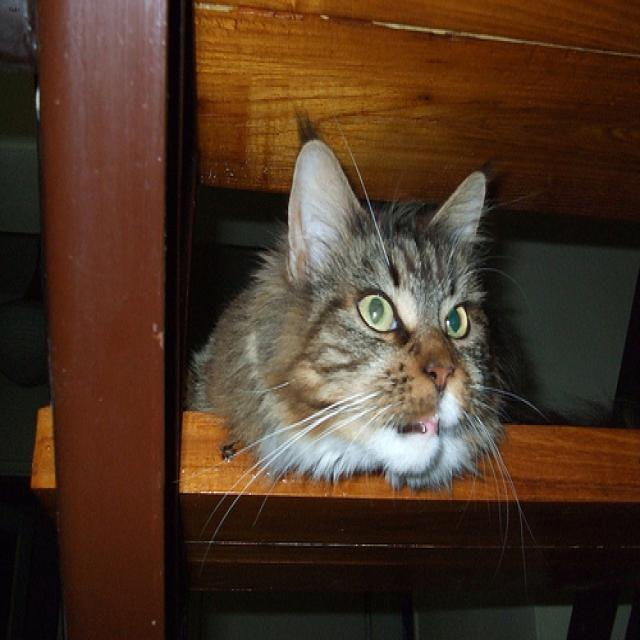Maine_Coon: (287, 131, 486, 471)
